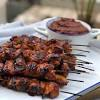sate: (1, 32, 93, 100)
